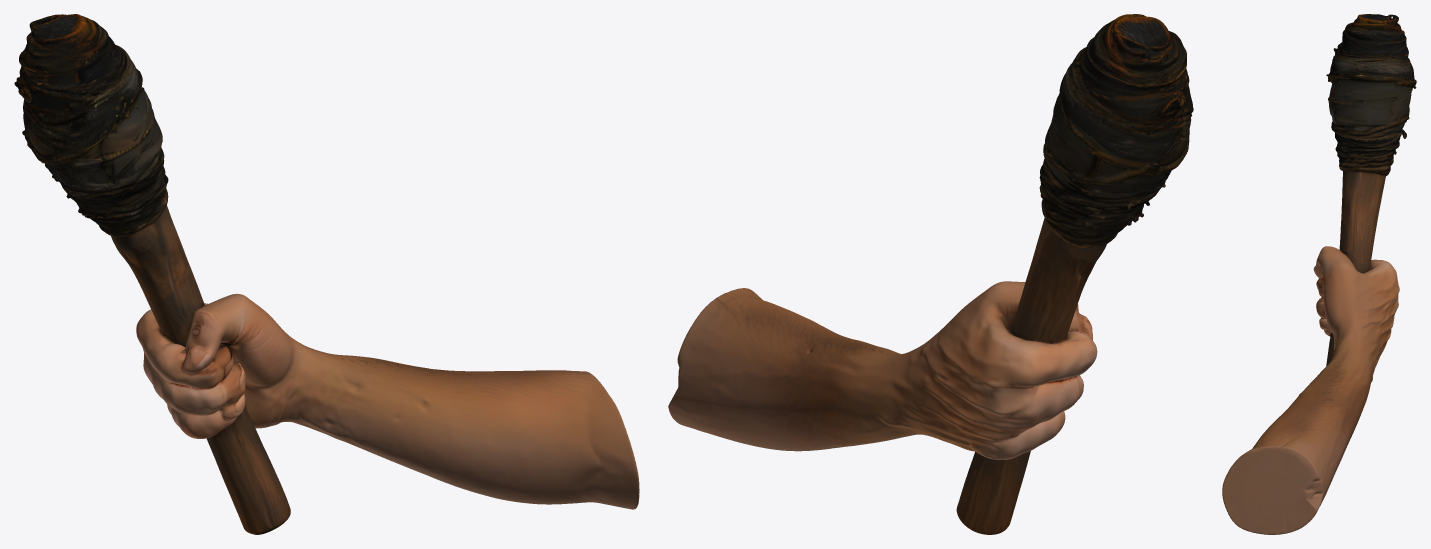
File: handTourch.glb
3 renders of one model, left to right at view 1: azimuth 30°, elevation 25°; view 2: azimuth 150°, elevation 25°; view 3: azimuth 270°, elevation 25°, orthographic. The views are drawn at different scales.
Parts seen in each view (by area): view 1: tripo_node_e146d796-e23d-45f3-927b-9c5b33999351; view 2: tripo_node_e146d796-e23d-45f3-927b-9c5b33999351; view 3: tripo_node_e146d796-e23d-45f3-927b-9c5b33999351.
Boxes of the visible parts, bbox=[...] form: tripo_node_e146d796-e23d-45f3-927b-9c5b33999351: bbox=[14, 14, 639, 534]; tripo_node_e146d796-e23d-45f3-927b-9c5b33999351: bbox=[668, 14, 1193, 534]; tripo_node_e146d796-e23d-45f3-927b-9c5b33999351: bbox=[1222, 14, 1416, 534].
Bounding box in the file's own units: 1 × 0.9877 × 0.4794.
1 material, 1 textured.
